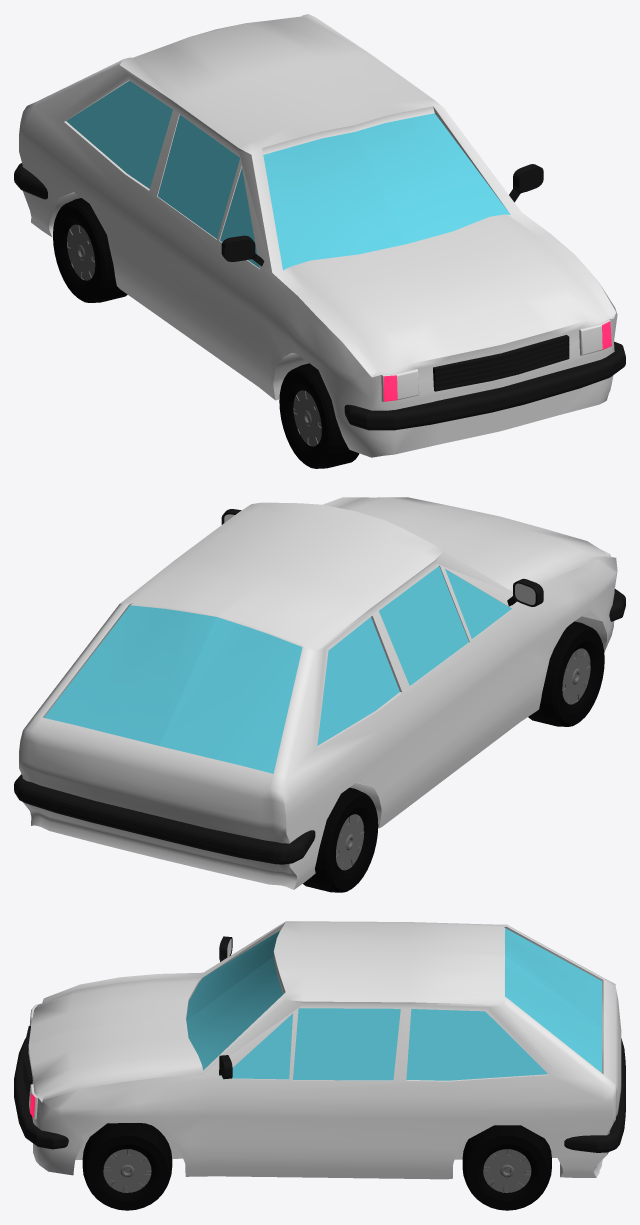
The model's file is fordi.fbx.
3 views of the same model, one above another, from view 1: azimuth 30°, elevation 25°; view 2: azimuth 150°, elevation 25°; view 3: azimuth 270°, elevation 25° (orthographic). The views are drawn at different scales.
Parts seen in each view (by area): view 1: Caroceria; view 2: Caroceria; view 3: Caroceria.
Boxes of the visible parts, box(x1,y1,x2,y2) form: Caroceria: box(14, 14, 625, 468); Caroceria: box(14, 497, 625, 892); Caroceria: box(14, 921, 625, 1210).
Size of the model in its own units: 1194 by 876 by 2366.
